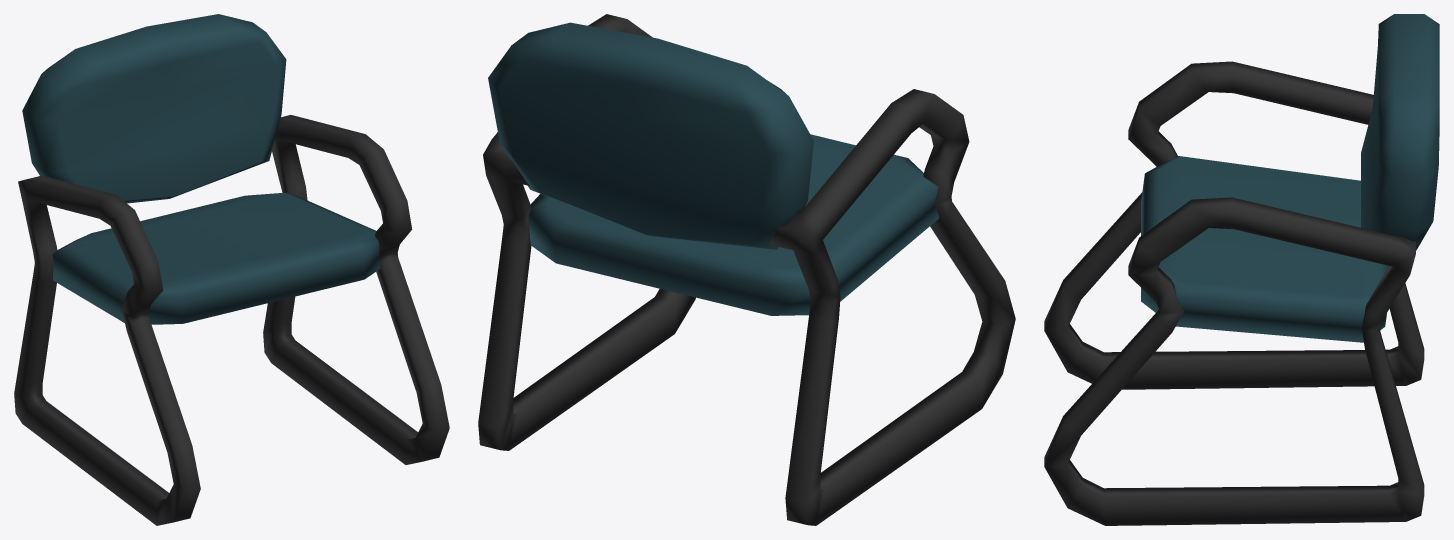
The model's file is officechair.glb.
The picture shows the model from 3 angles, left to right: view 1: azimuth 30°, elevation 25°; view 2: azimuth 150°, elevation 25°; view 3: azimuth 270°, elevation 25°; orthographic projection. The views are drawn at different scales.
Visible parts, largest first — view 1: mesh_furniture_chair_04; view 2: mesh_furniture_chair_04; view 3: mesh_furniture_chair_04.
Part boxes in pixels (<box>): mesh_furniture_chair_04: <box>14,14,449,525</box>; mesh_furniture_chair_04: <box>478,14,1015,525</box>; mesh_furniture_chair_04: <box>1044,14,1439,525</box>.
Size of the model in its own units: 0.7917 by 1.03 by 0.9119.
Materials: 1 (1 with a texture image).
